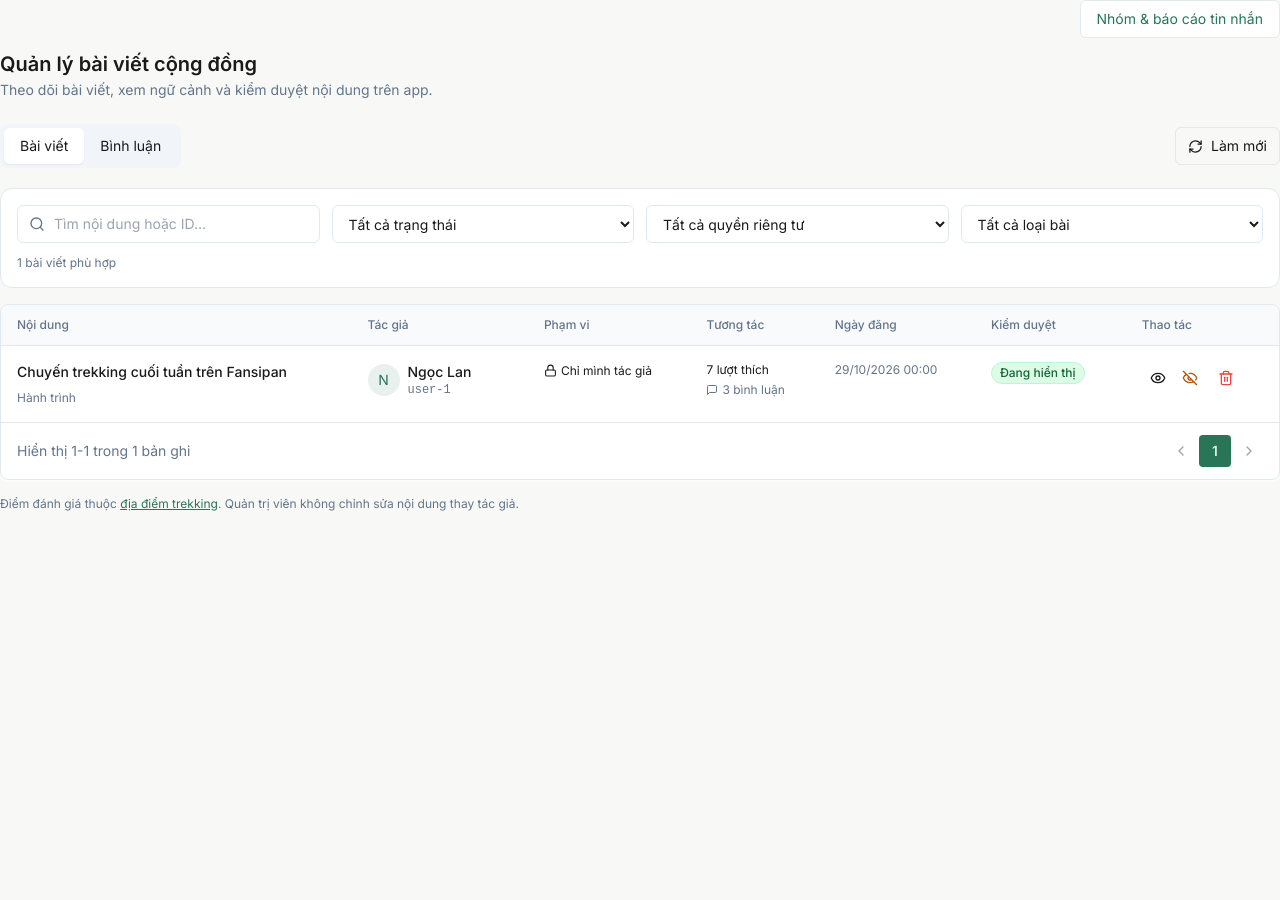
Test case: keeps the reason and dialog on failed moderation and does not show fake success
Click the button named "Ẩn post-1" at (1190, 378), box top-left (1174, 362), bottom-right (1206, 394)
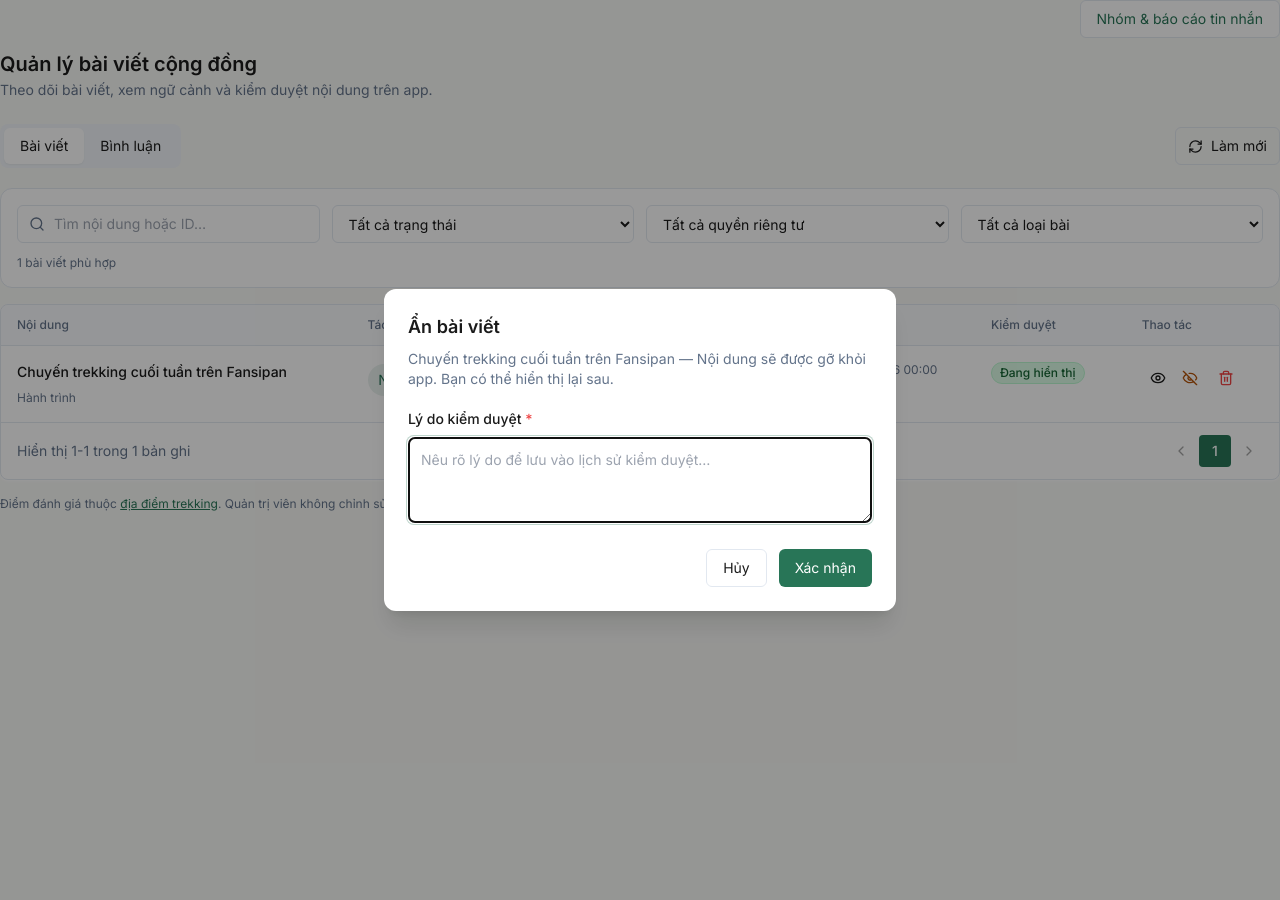
Type "Giữ bản nháp lý do" into the text box labelled "Lý do kiểm duyệt *" at (640, 480), box top-left (408, 437), bottom-right (872, 523)
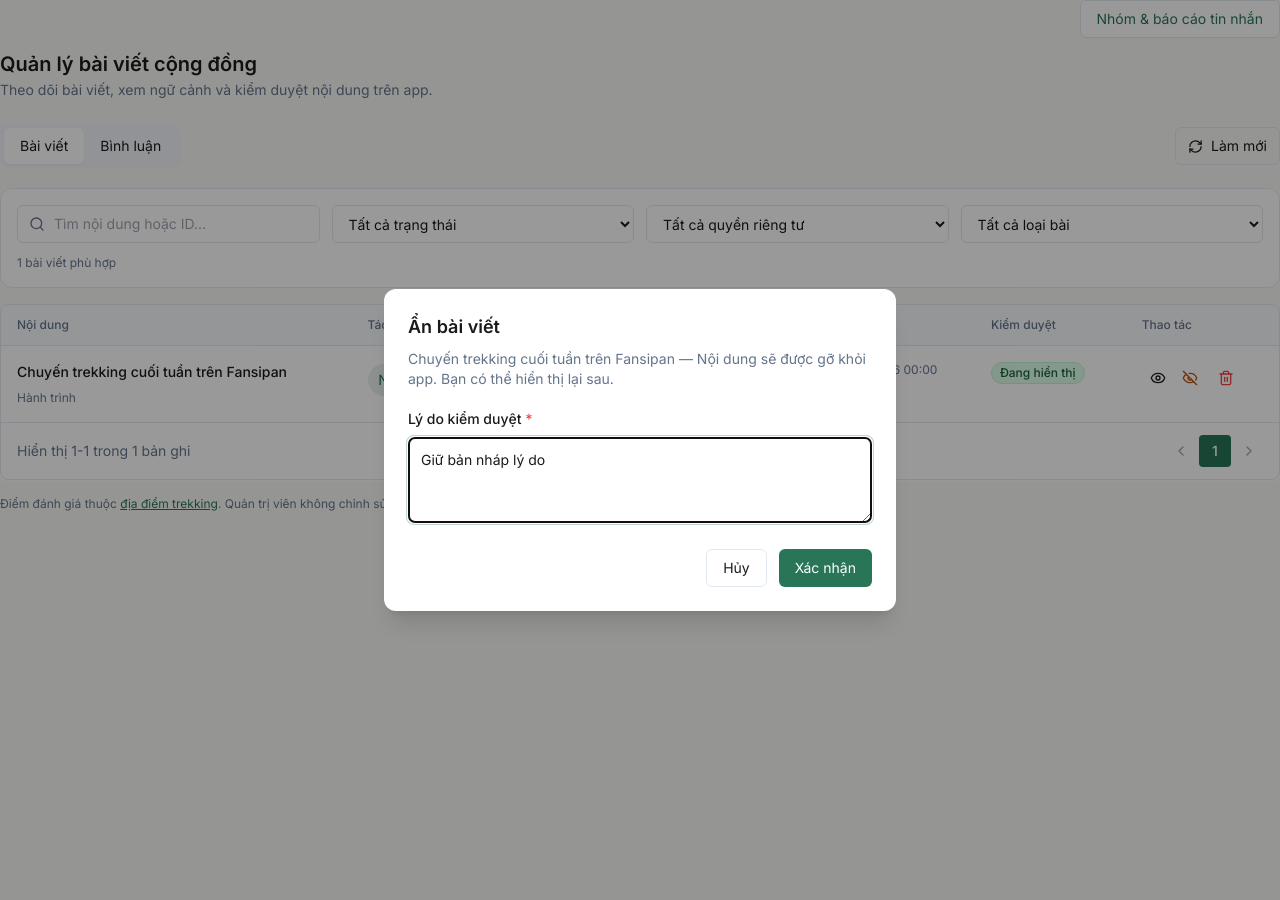
Click the button "Xác nhận" at (825, 568), box top-left (779, 549), bottom-right (872, 587)
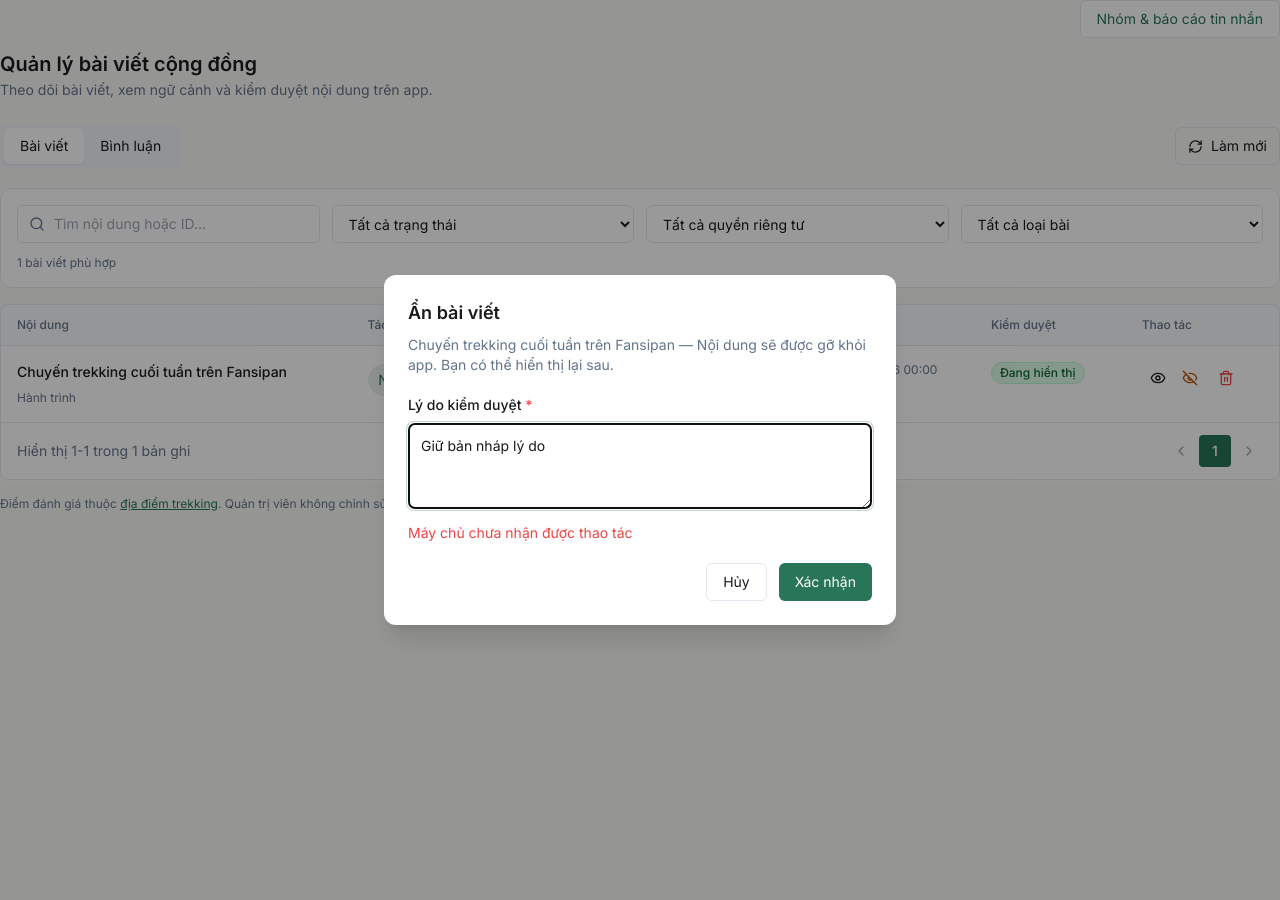
Check: the message reads "Máy chủ chưa nhận được thao tác", box top-left (408, 524), bottom-right (633, 541)
